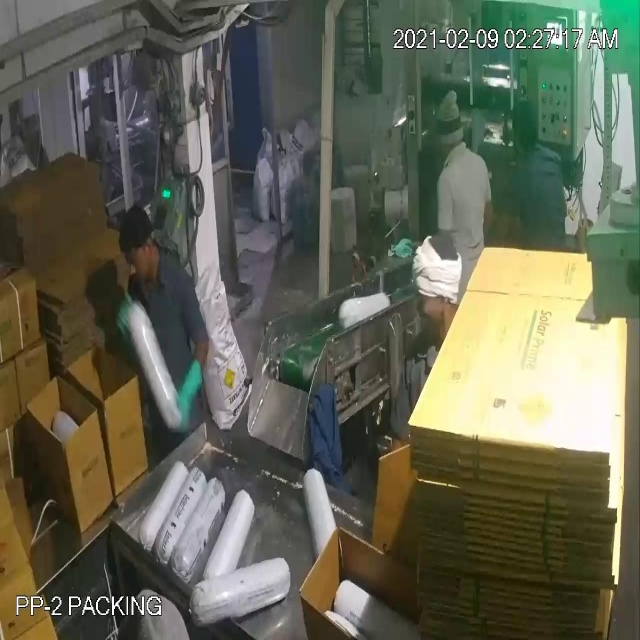Guantes: (167, 348, 218, 435), (111, 296, 152, 365)
